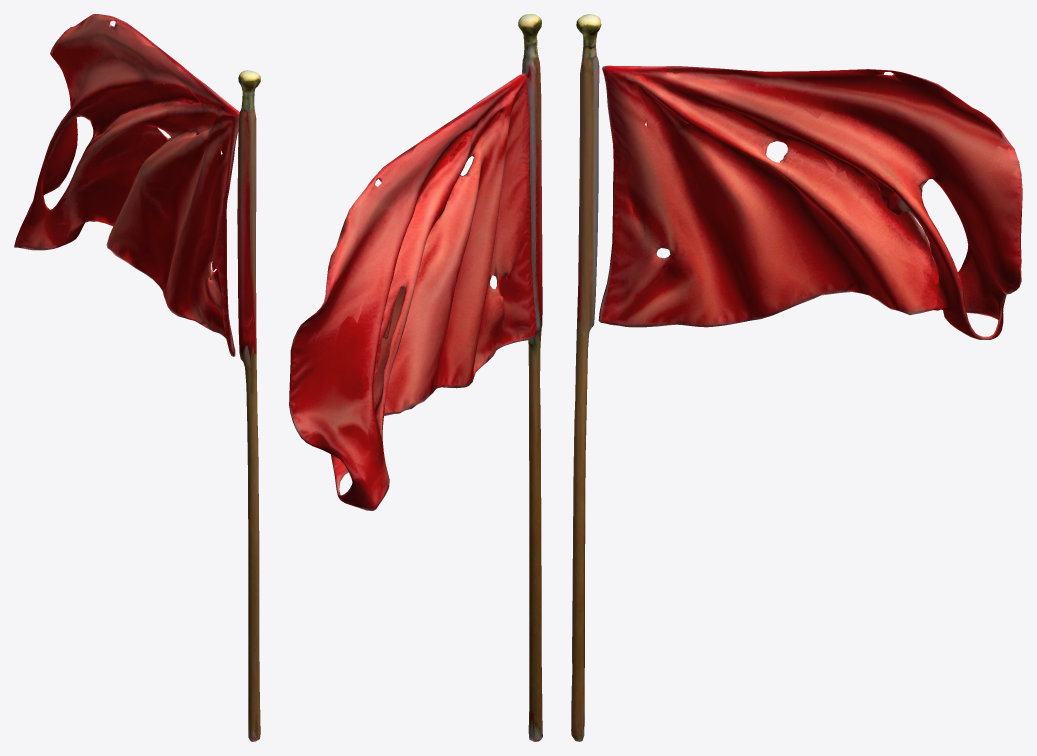
3 renders of one model, left to right at view 1: azimuth 30°, elevation 25°; view 2: azimuth 150°, elevation 25°; view 3: azimuth 270°, elevation 25°, orthographic. The views are drawn at different scales.
Parts seen in each view (by area): view 1: model; view 2: model; view 3: model.
Boxes of the visible parts, bbox=[...] form: model: bbox=[14, 14, 260, 741]; model: bbox=[289, 14, 542, 741]; model: bbox=[571, 14, 1022, 741].
Bounding box in the file's own units: 0.1035 × 0.9568 × 0.5408.
Materials: 1 (1 with a texture image).
